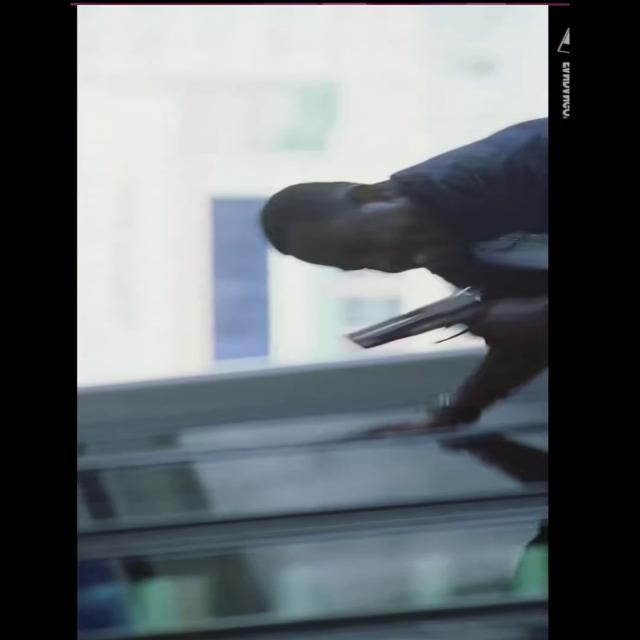weapons: (320, 278, 529, 356)
